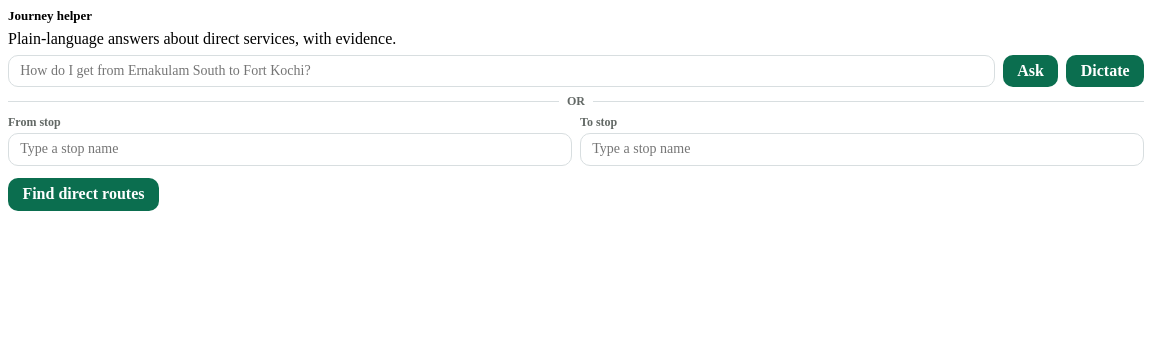
Test: JourneyPanel › offers every candidate and asks for a choice
The image size is (1152, 356).
In the field named "your journey question": (501, 71) top-left (8, 55), bottom-right (995, 87), type "How do I get from North?"
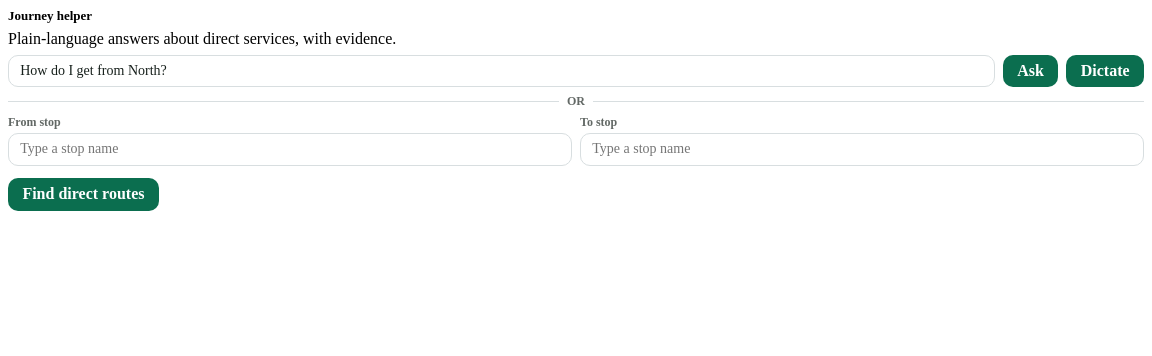
Click the button "Ask": (1031, 71) top-left (1003, 55), bottom-right (1058, 87)
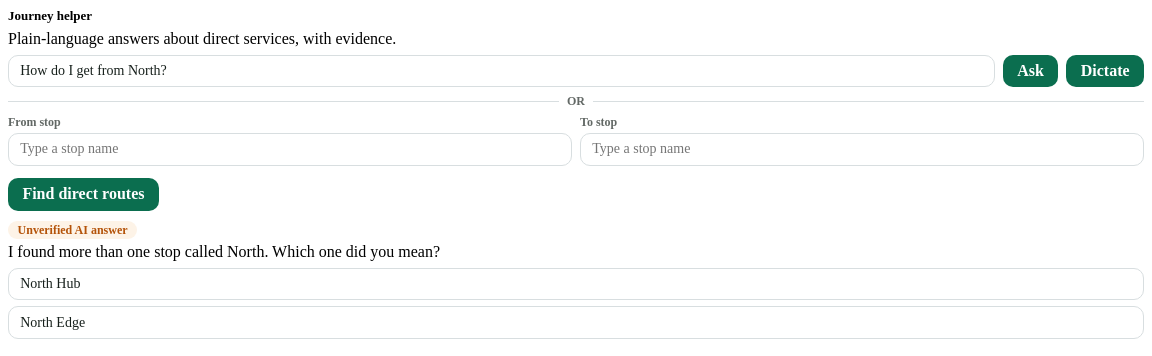
Expected: the text "Which one did you mean" is shown, top-left (8, 243), bottom-right (440, 260)
Expected: the button "North Hub" is shown, top-left (8, 268), bottom-right (1144, 300)
Expected: the button "North Edge" is shown, top-left (8, 306), bottom-right (1144, 339)
